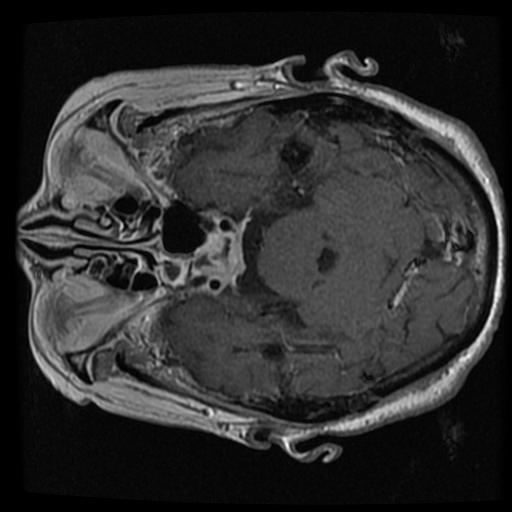pituitary tumour: (195, 231, 245, 280)
